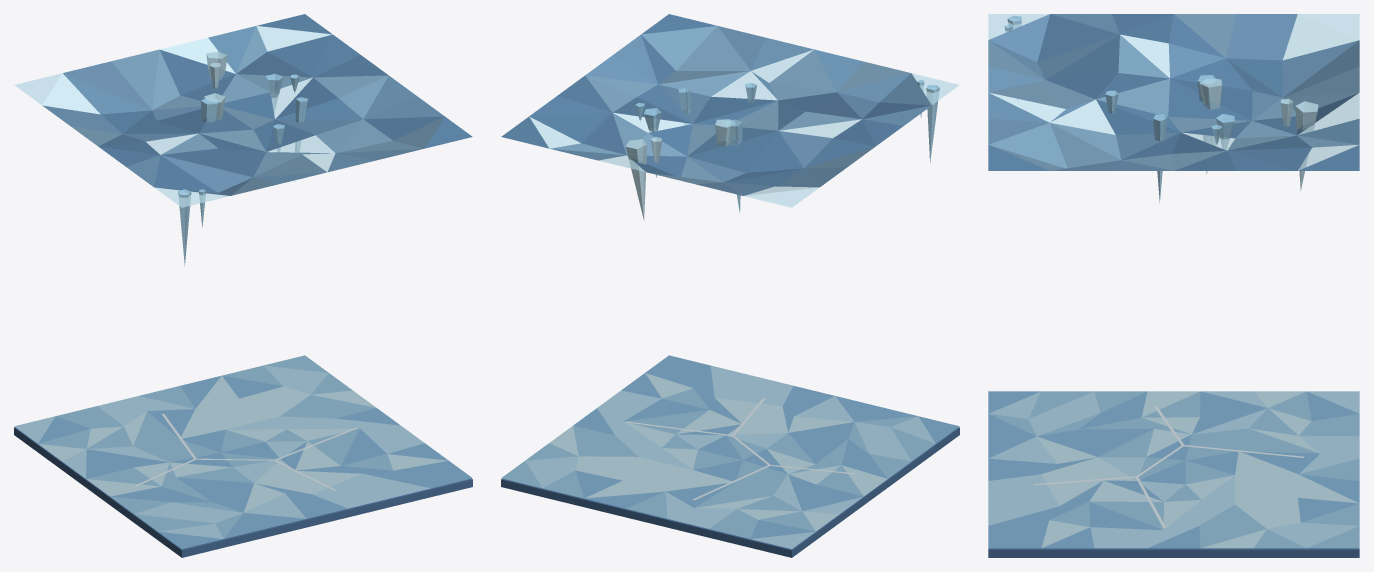
The model's file is floor_b.fbx.
3 views of the same model, side by side, from view 1: azimuth 30°, elevation 25°; view 2: azimuth 150°, elevation 25°; view 3: azimuth 270°, elevation 25° (orthographic). The views are drawn at different scales.
Visible parts, largest first — view 1: floor_b, Ceiling; view 2: floor_b, Ceiling; view 3: floor_b, Ceiling.
Part boxes in pixels (bbox=[...]): floor_b: bbox=[14, 355, 472, 557]; Ceiling: bbox=[14, 14, 472, 266]; floor_b: bbox=[501, 355, 959, 557]; Ceiling: bbox=[501, 14, 959, 220]; floor_b: bbox=[988, 391, 1359, 557]; Ceiling: bbox=[988, 14, 1359, 202].
Bounding box in the file's own units: 4 × 4.65 × 4.
